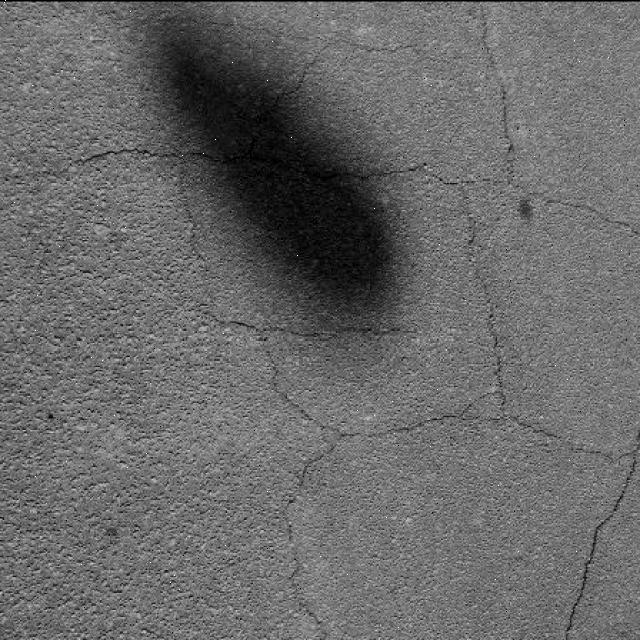Crack: (2, 0, 638, 636), (523, 421, 639, 640)
